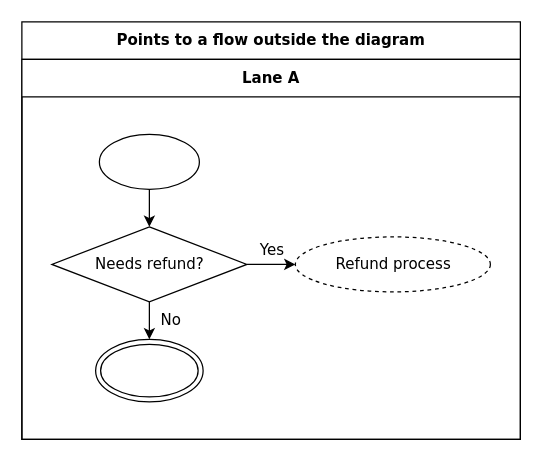
Image size: 543x461. Some labels were removed from this diagram. The box of each missing label's shape, as (x1, y1, x2, y2) in pixels:
Enter: (98, 133, 199, 189)
Finish: (94, 338, 203, 402)
